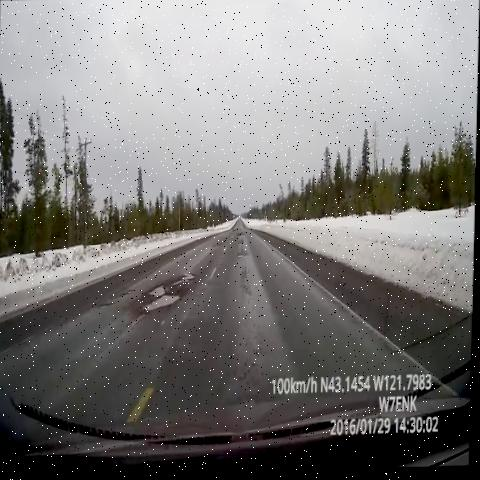pothole: (138, 264, 211, 330), (96, 291, 125, 328), (232, 241, 257, 272), (119, 280, 139, 306), (234, 221, 252, 248), (212, 235, 226, 257)
